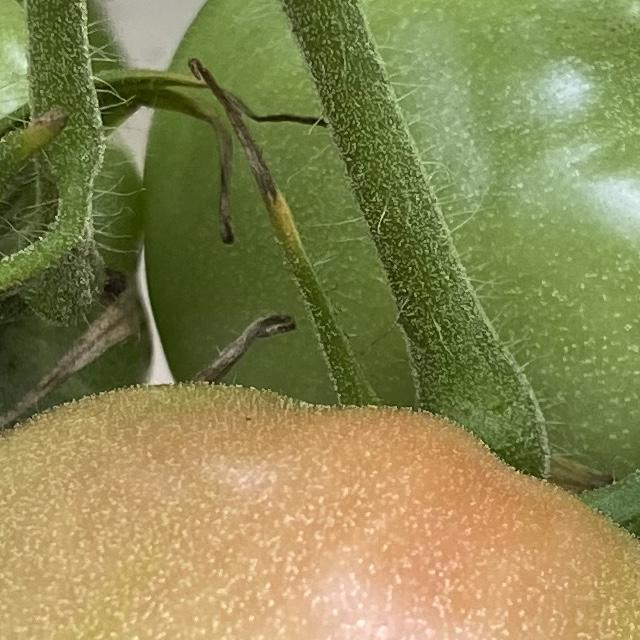tomato: (0, 0, 640, 474)
